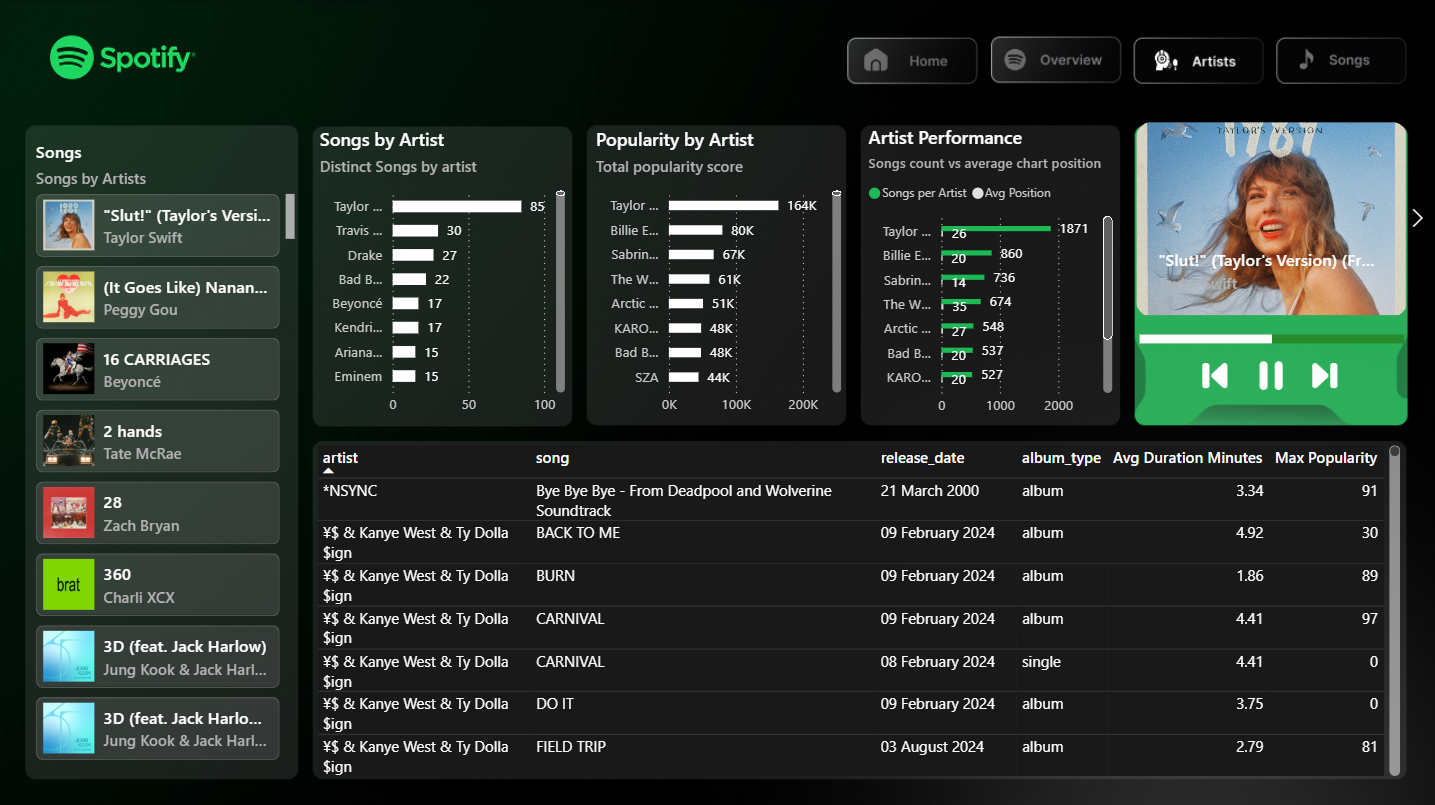

The dashboard page shown, as its layout file describes it:
{"tool":"powerbi","page":{"name":"Artist","canvas":[1280,720],"ordinal":2},"visuals":[{"type":"actionButton","box":[755.7,33.7,118.6,40],"z":0},{"type":"actionButton","box":[884.3,33.7,112.9,40],"z":1000},{"type":"actionButton","box":[1012.9,33.7,118.6,40],"z":2000},{"type":"actionButton","box":[1134.3,33.7,118.6,40],"z":3000},{"type":"hundredPercentStackedBarChart","fields":{"Y":["_Measures.Avg Popularity","Avg(Top-50-World.popularity)"]},"box":[1011.4,260,245.7,77.1],"z":4000},{"type":"advancedSlicerVisual","title":"Songs ","fields":{"Values":["Top-50-World.song"]},"box":[987.1,102.9,292.9,184.3],"z":5000},{"type":"image","box":[1071.4,321.4,25.7,25.7],"z":6000},{"type":"image","box":[1121.4,321.4,25.7,25.7],"z":7000},{"type":"image","box":[1168.6,321.4,25.7,25.7],"z":8000},{"type":"shape","box":[997.1,110,260,268.6],"z":9000},{"type":"clusteredBarChart","title":"Songs by Artist","fields":{"Category":["Top-50-World.artist"],"Y":["_Measures.Distinct Songs"]},"box":[281.4,112.9,228.6,265.7],"z":10000},{"type":"clusteredBarChart","title":"Artist Performance","fields":{"Category":["Top-50-World.artist"],"Y":["_Measures.Songs per Artist","_Measures.Avg Position"]},"box":[770,110,227.1,268.6],"z":11000},{"type":"clusteredBarChart","title":"Popularity by Artist","fields":{"Category":["Top-50-World.artist"],"Y":["Sum(Top-50-World.popularity)"]},"box":[527.1,112.9,228.6,265.7],"z":12000},{"type":"advancedSlicerVisual","title":"Songs ","fields":{"Values":["Top-50-World.song"]},"box":[28.6,124.3,240,562.9],"z":13000},{"type":"tableEx","fields":{"Values":["Top-50-World.artist","Top-50-World.song","Top-50-World.release_date","Top-50-World.album_type","_Measures.Avg Duration Minutes","_Measures.Max Popularity"]},"box":[278.3,391.8,975.1,303.9],"z":14000}]}

Visuals, with their boxes in screenshot pixels (x1, y1, x2, y2), scaled from the page's 1280x720 canvas onto the 1435x805 screenshot:
actionButton: [left=847, top=38, right=980, bottom=82]
actionButton: [left=991, top=38, right=1118, bottom=82]
actionButton: [left=1136, top=38, right=1269, bottom=82]
actionButton: [left=1272, top=38, right=1405, bottom=82]
hundredPercentStackedBarChart - _Measures.Avg Popularity x Avg(Top-50-World.popularity): [left=1134, top=291, right=1409, bottom=377]
"Songs " advancedSlicerVisual: [left=1107, top=115, right=1434, bottom=321]
image: [left=1201, top=359, right=1230, bottom=388]
image: [left=1257, top=359, right=1286, bottom=388]
image: [left=1310, top=359, right=1339, bottom=388]
shape: [left=1118, top=123, right=1409, bottom=423]
"Songs by Artist" clusteredBarChart: [left=315, top=126, right=572, bottom=423]
"Artist Performance" clusteredBarChart: [left=863, top=123, right=1118, bottom=423]
"Popularity by Artist" clusteredBarChart: [left=591, top=126, right=847, bottom=423]
"Songs " advancedSlicerVisual: [left=32, top=139, right=301, bottom=768]
tableEx - Top-50-World.artist x Top-50-World.song: [left=312, top=438, right=1405, bottom=778]
